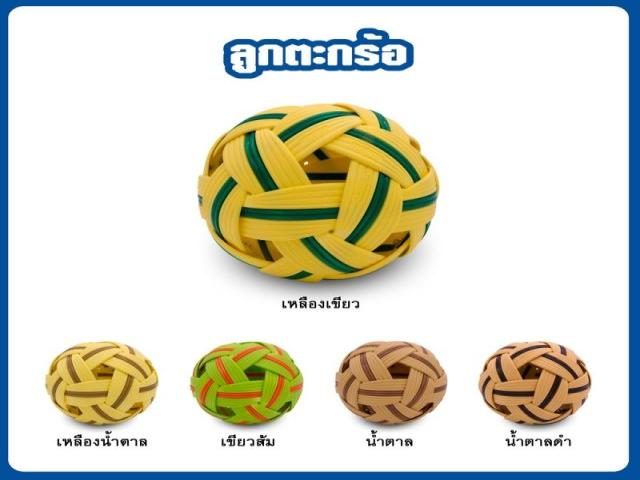round ball: (199, 104, 438, 281), (191, 341, 304, 424), (46, 341, 158, 424), (336, 341, 448, 424), (479, 342, 591, 423)
